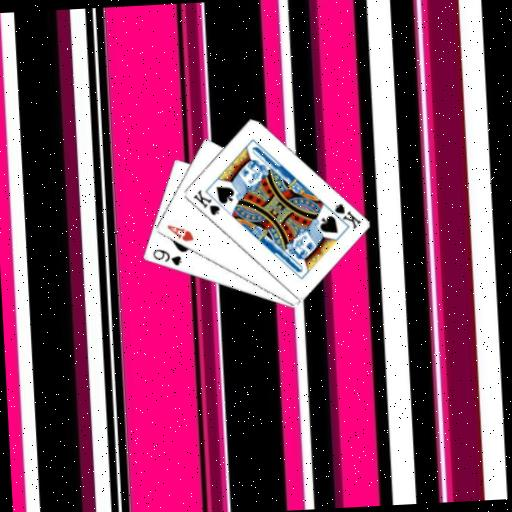9S: (150, 245, 184, 269)
AH: (163, 221, 196, 245)
KS: (325, 200, 363, 232), (189, 186, 222, 218)
